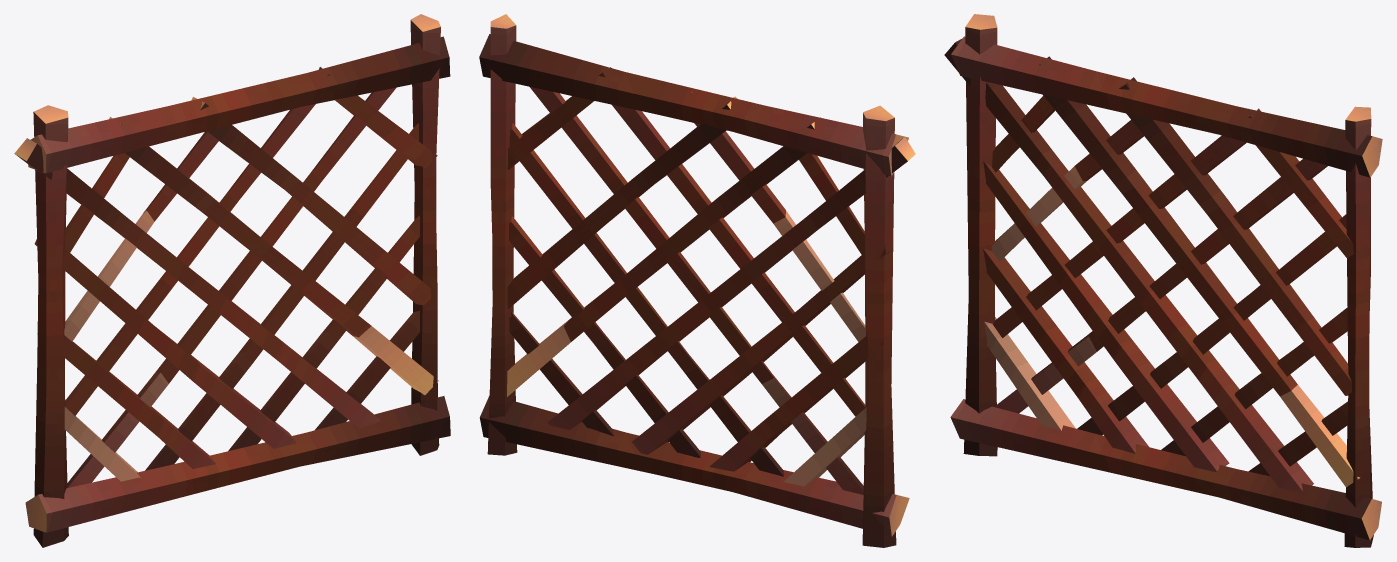
File: Wall_See_Through.FBX
The picture shows the model from 3 angles, left to right: view 1: azimuth 30°, elevation 25°; view 2: azimuth 150°, elevation 25°; view 3: azimuth 330°, elevation 25°; orthographic projection.
Visible parts, largest first — view 1: Wall_See_Through; view 2: Wall_See_Through; view 3: Wall_See_Through.
Boxes of the visible parts, x1,y1,x2,y2 form: Wall_See_Through: (14, 14, 450, 547); Wall_See_Through: (479, 14, 915, 547); Wall_See_Through: (944, 14, 1382, 547).
Bounding box in the file's own units: 0.5679 × 0.0543 × 0.5479.
